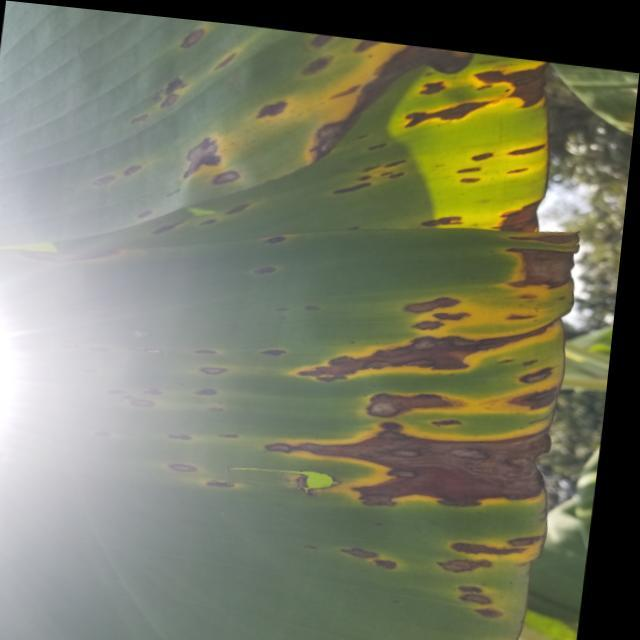Early_rust: (10, 0, 578, 640)
